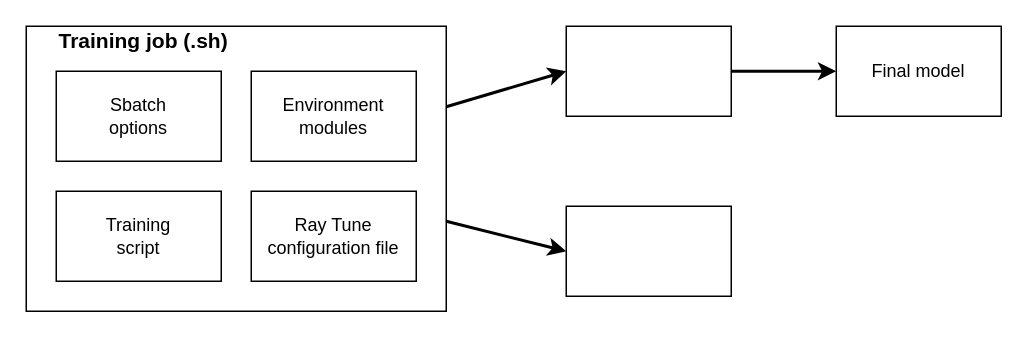
Some shapes in this 1028 by 338 pixel diagram are drawn without their labels. Each missing label, with the centre of its shape:
Checkpoints: (648,70)
Training job metrics: (648,250)
